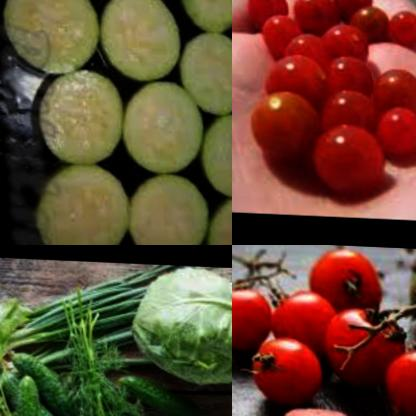cabbage: (117, 262, 232, 384)
cucumber: (2, 343, 76, 416), (117, 365, 209, 416), (0, 365, 69, 416)
tomato: (235, 0, 416, 195), (318, 298, 407, 390), (243, 332, 323, 404), (265, 279, 346, 346), (310, 245, 388, 311), (375, 337, 416, 416), (268, 389, 362, 416), (232, 278, 266, 340), (405, 246, 416, 324)
vegetable marrow: (33, 64, 136, 173), (107, 76, 211, 179), (31, 162, 147, 245), (0, 0, 118, 79), (105, 164, 214, 245), (94, 0, 198, 80), (172, 32, 232, 118), (182, 110, 232, 204), (197, 190, 232, 245), (170, 0, 232, 26)
